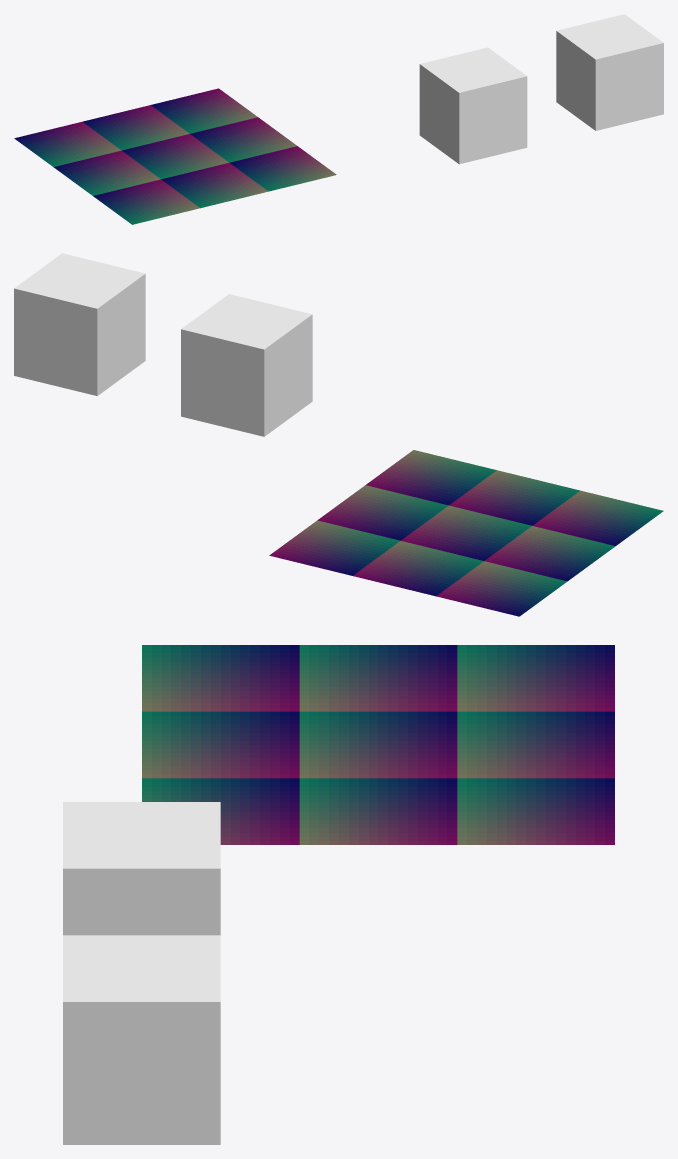
Rendered from room.glb.
The picture shows the model from 3 angles, top to bottom: view 1: azimuth 30°, elevation 25°; view 2: azimuth 150°, elevation 25°; view 3: azimuth 270°, elevation 25°; orthographic projection. The views are drawn at different scales.
Parts seen in each view (by area): view 1: Floor, Crate, Crate instance; view 2: Floor, Crate, Crate instance; view 3: Floor, Crate instance, Crate.
Boxes of the visible parts, x1,y1,x2,y2 form: Floor: (14,88,336,224); Crate: (419,47,527,164); Crate instance: (556,14,663,130); Floor: (269,450,663,616); Crate: (181,294,312,436); Crate instance: (14,253,145,395); Floor: (142,645,614,844); Crate instance: (63,935,220,1144); Crate: (63,802,220,935).
Bounding box in the file's own units: 7.5 × 1 × 3.5.
2 materials, 1 textured.
